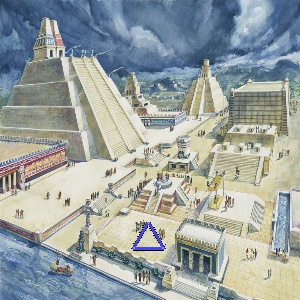triangle: (128, 220, 167, 256)
